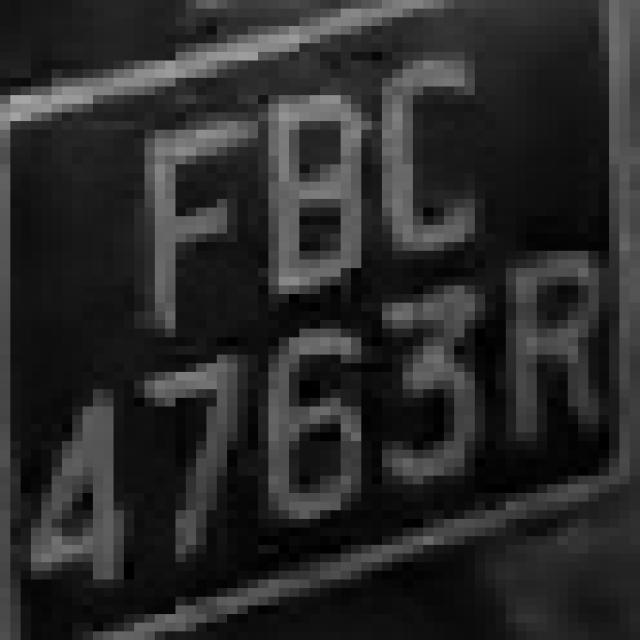3: (330, 260, 496, 484)
4: (0, 372, 155, 631)
6: (248, 303, 382, 502)
7: (124, 337, 268, 562)
B: (237, 52, 351, 294)
C: (340, 43, 506, 277)
F: (124, 78, 248, 320)
R: (486, 242, 620, 467)
